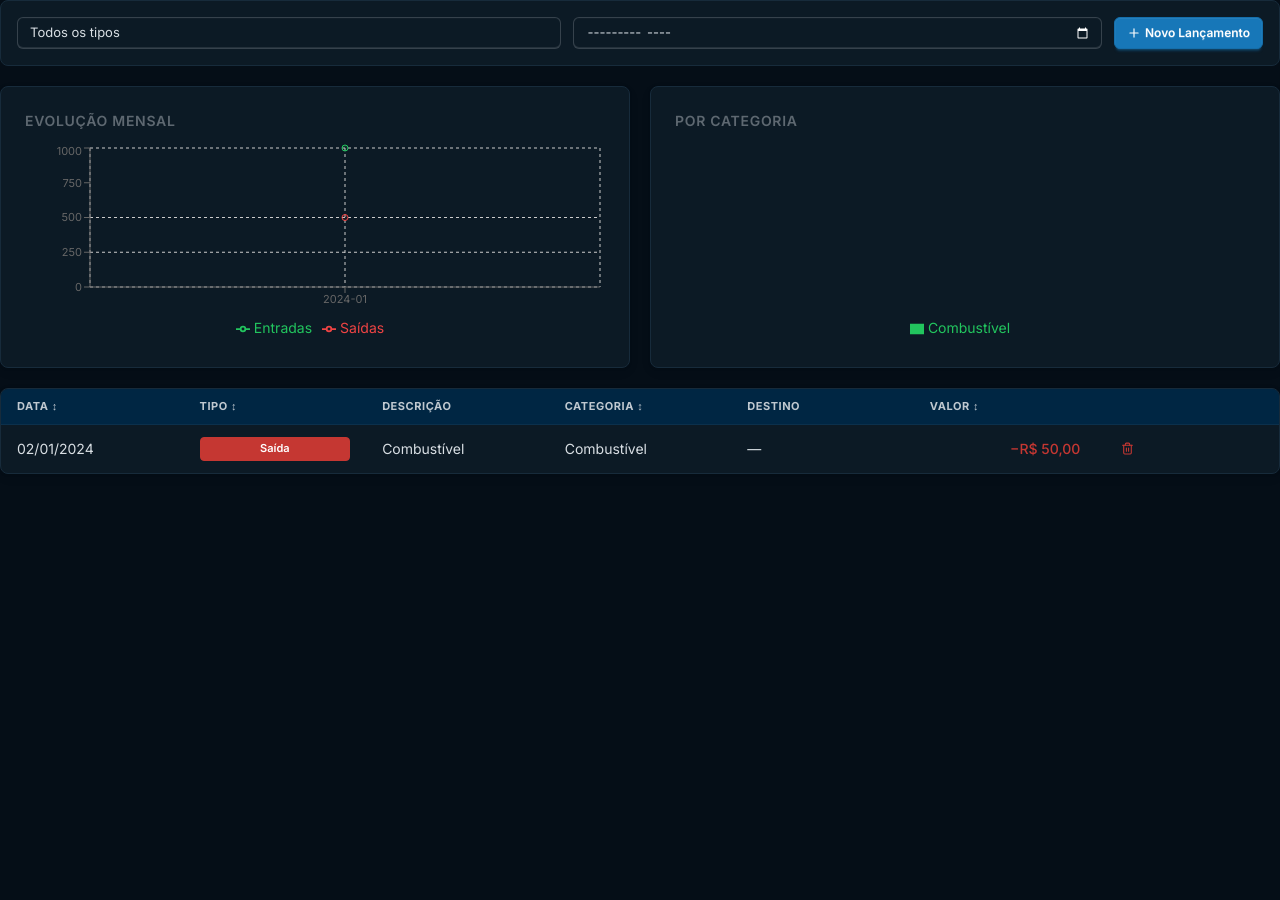
Test: FinancialPage — F2: category select › exibe select de categoria no formulário de nova transação
The image size is (1280, 900).
Click the button titled "Novo lançamento".
click(1188, 33)  # box [1114,17,1263,49]
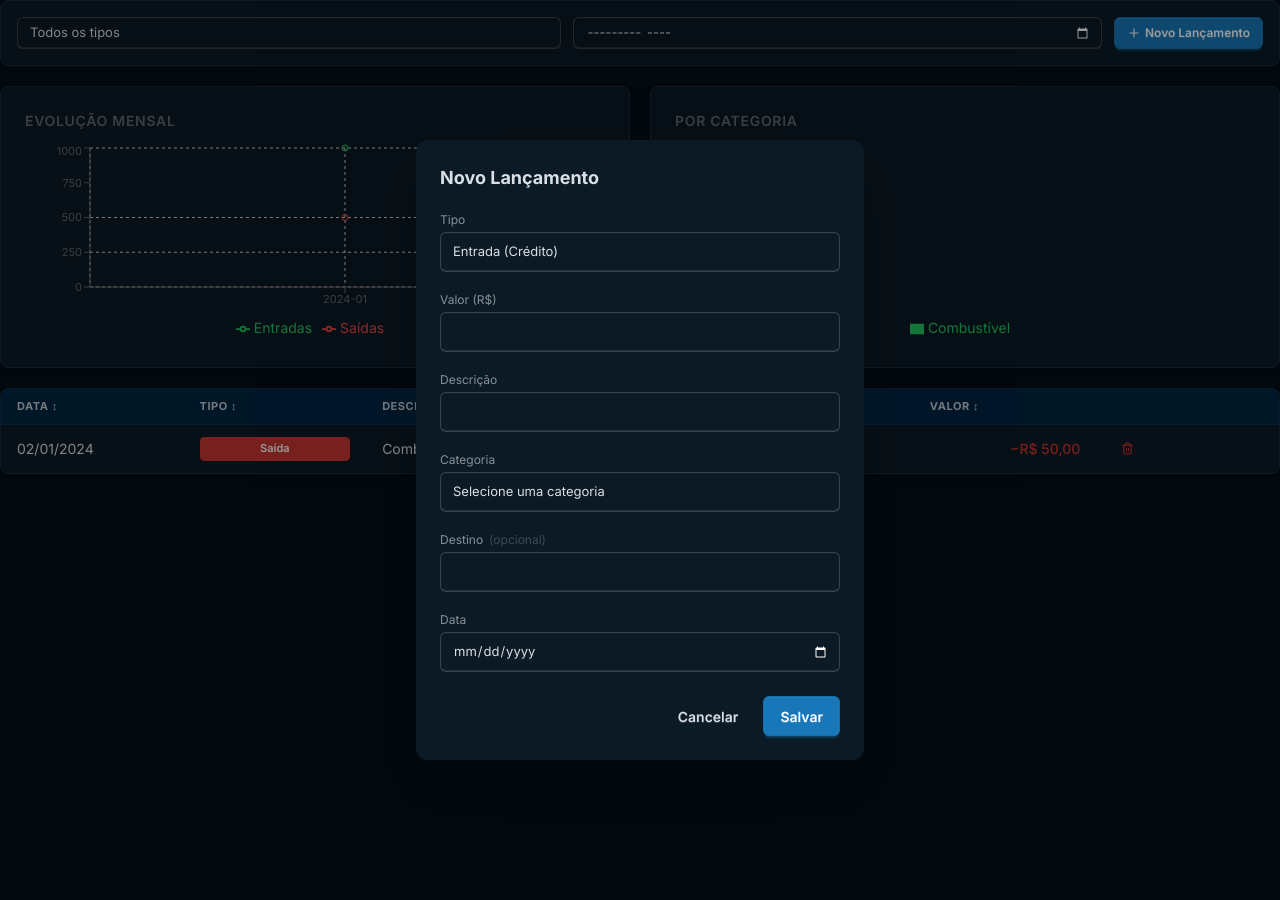
Expected: the dropdown labelled "Categoria" is shown, [440,472,840,512]
